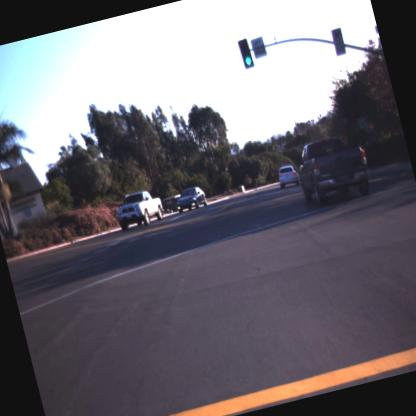trafficlight: (236, 38, 256, 70)
